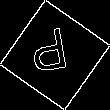P_S: (33, 27, 77, 83)
